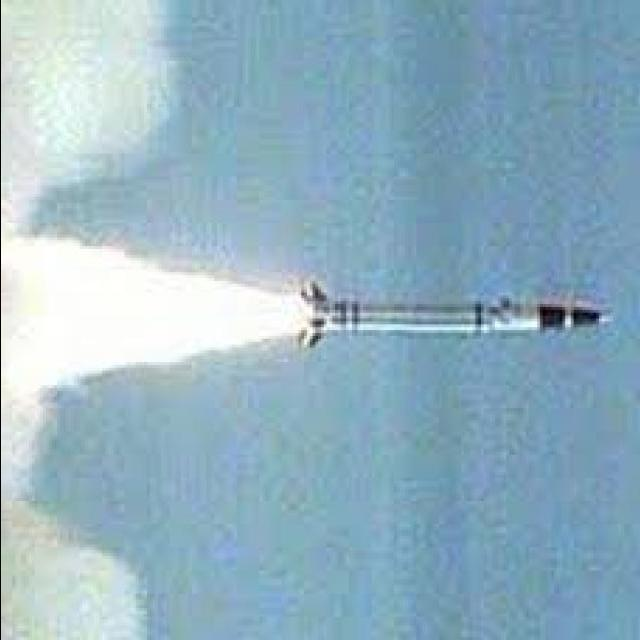missile: (288, 273, 623, 363)
